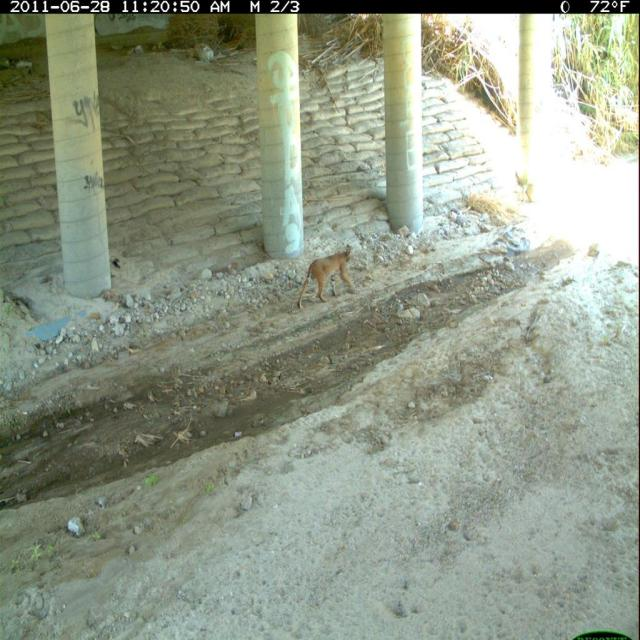bobcat: (294, 242, 360, 315)
